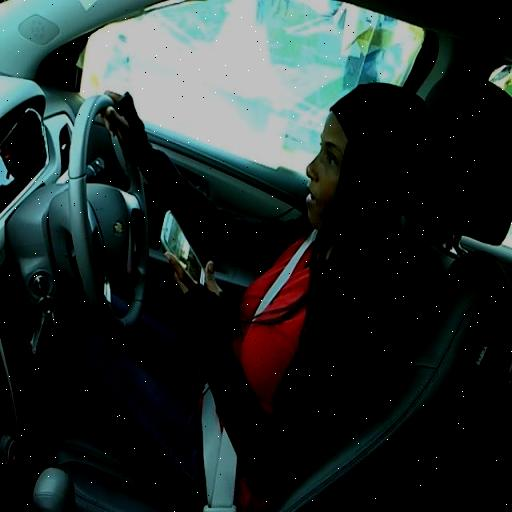texting_phone: (70, 97, 429, 436)
